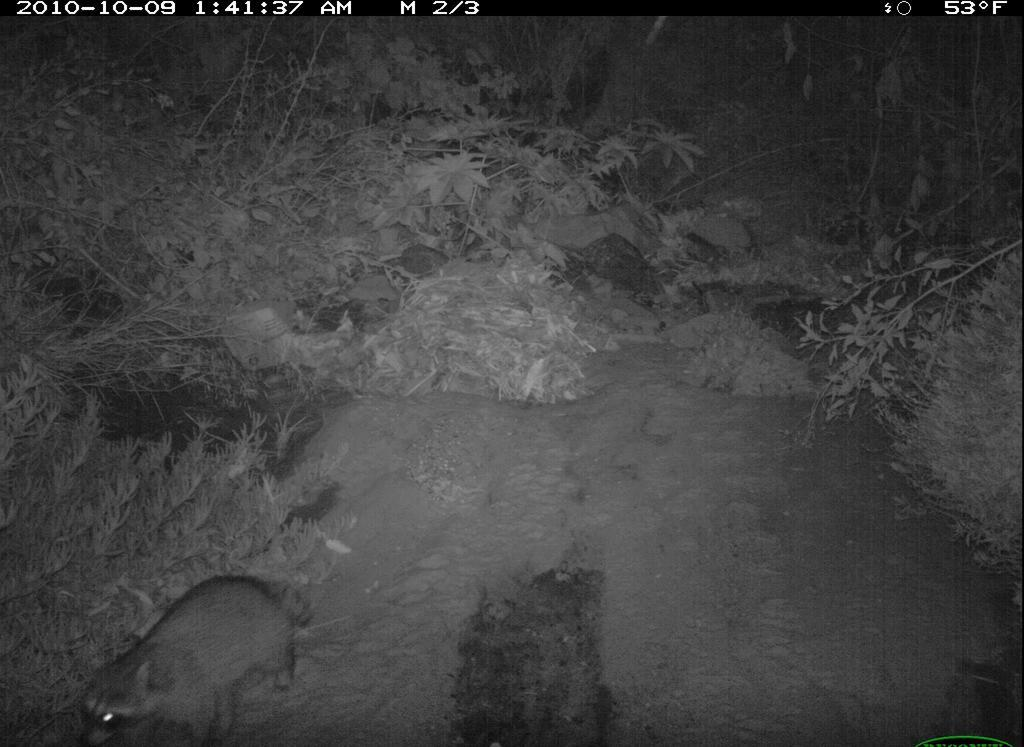raccoon: (57, 564, 335, 740)
